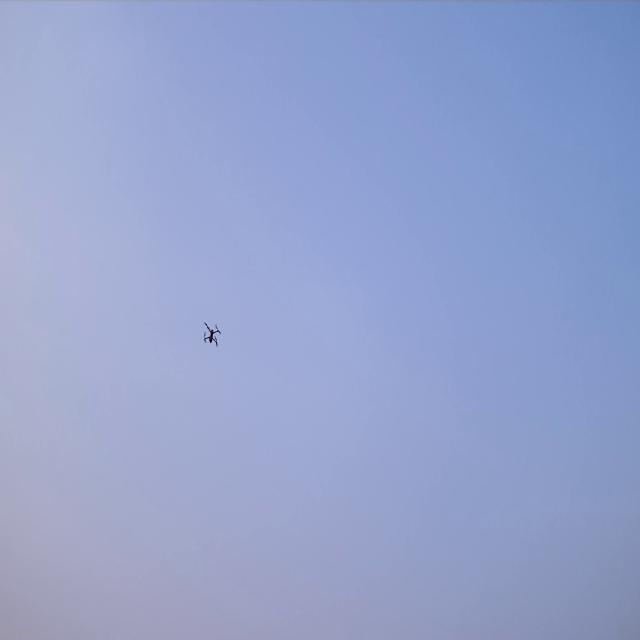UAV: (204, 324, 220, 344)
